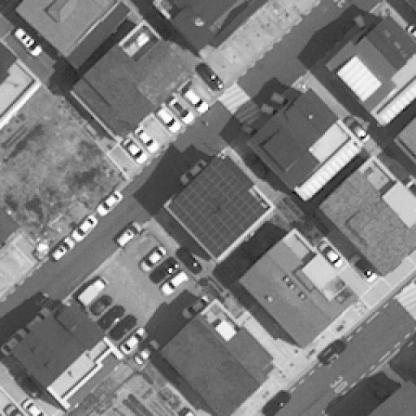solar-pv-panel: (169, 156, 265, 258)
